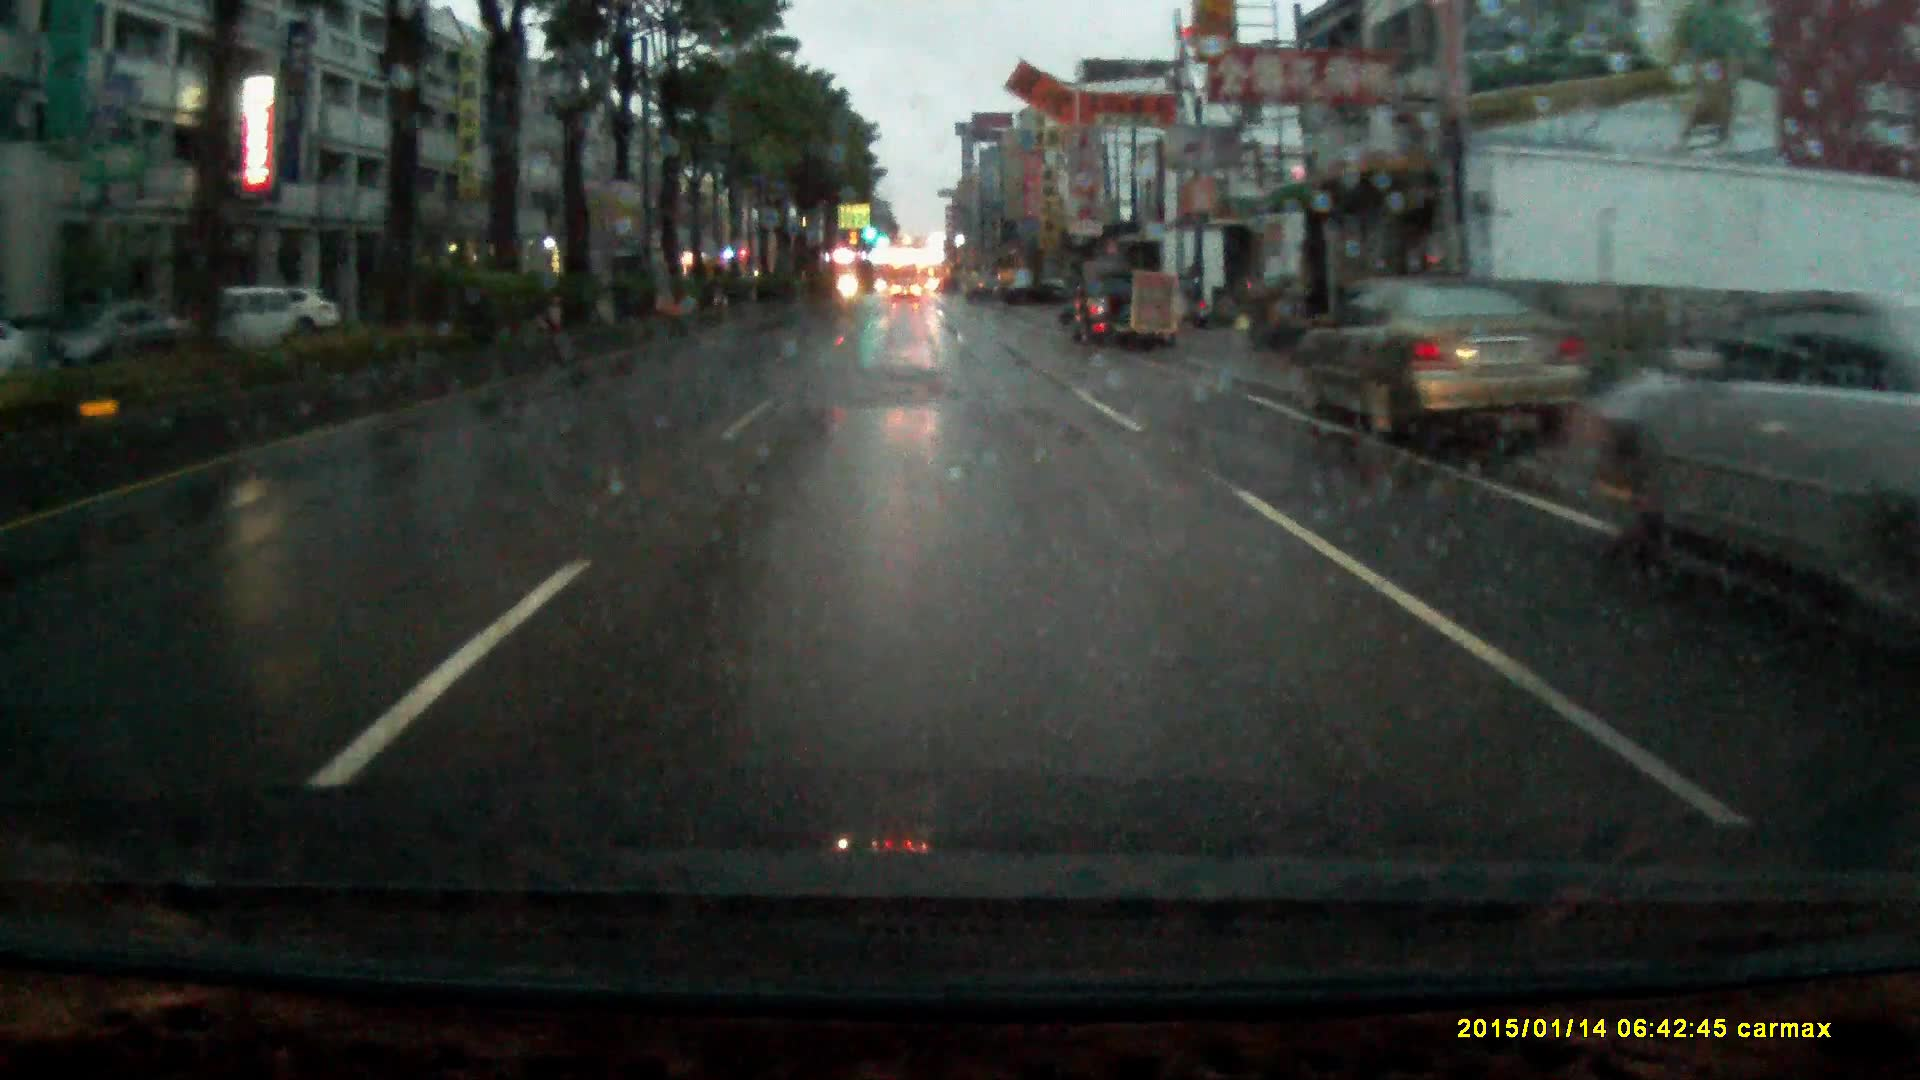vehicle: (1571, 289, 1920, 633), (1296, 276, 1586, 439), (32, 299, 189, 367), (150, 299, 301, 368), (1071, 262, 1170, 355), (891, 281, 920, 302)
